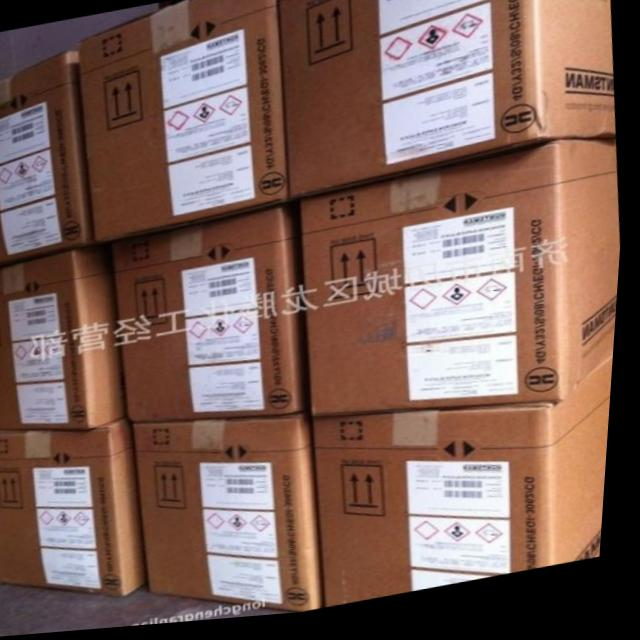box: (294, 148, 624, 422), (320, 367, 619, 612), (276, 0, 618, 207), (81, 0, 294, 244), (112, 208, 318, 425), (134, 423, 332, 615), (0, 419, 153, 598), (0, 251, 133, 430), (0, 49, 96, 265)
